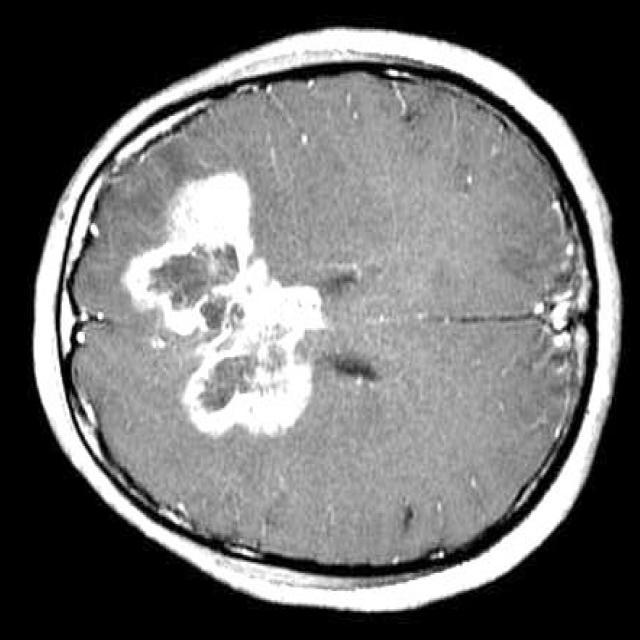tumor: (119, 172, 323, 437)
